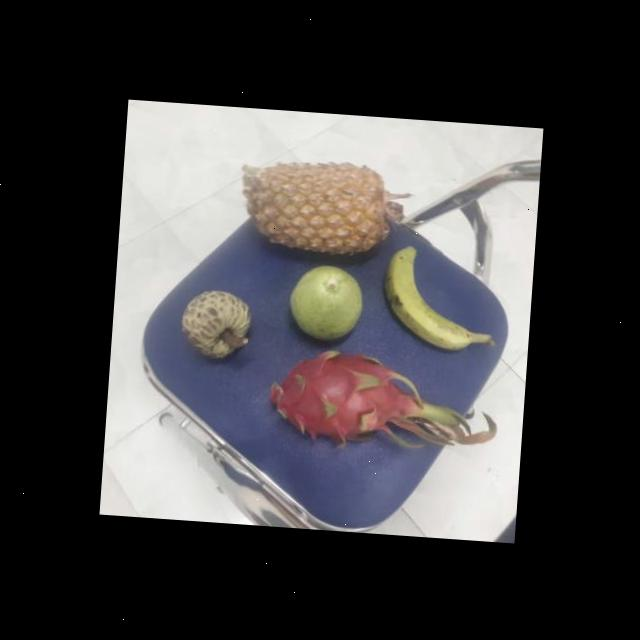Sakya fruit: (174, 287, 250, 361)
banana: (373, 243, 480, 351)
guava: (284, 261, 364, 344)
pineapple: (239, 156, 391, 264)
pitaya: (258, 346, 418, 446)
